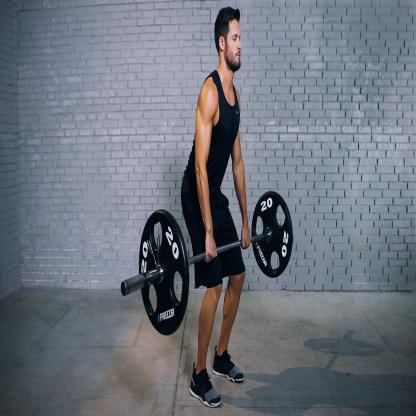Barbell: (128, 204, 198, 339), (247, 184, 299, 284)
